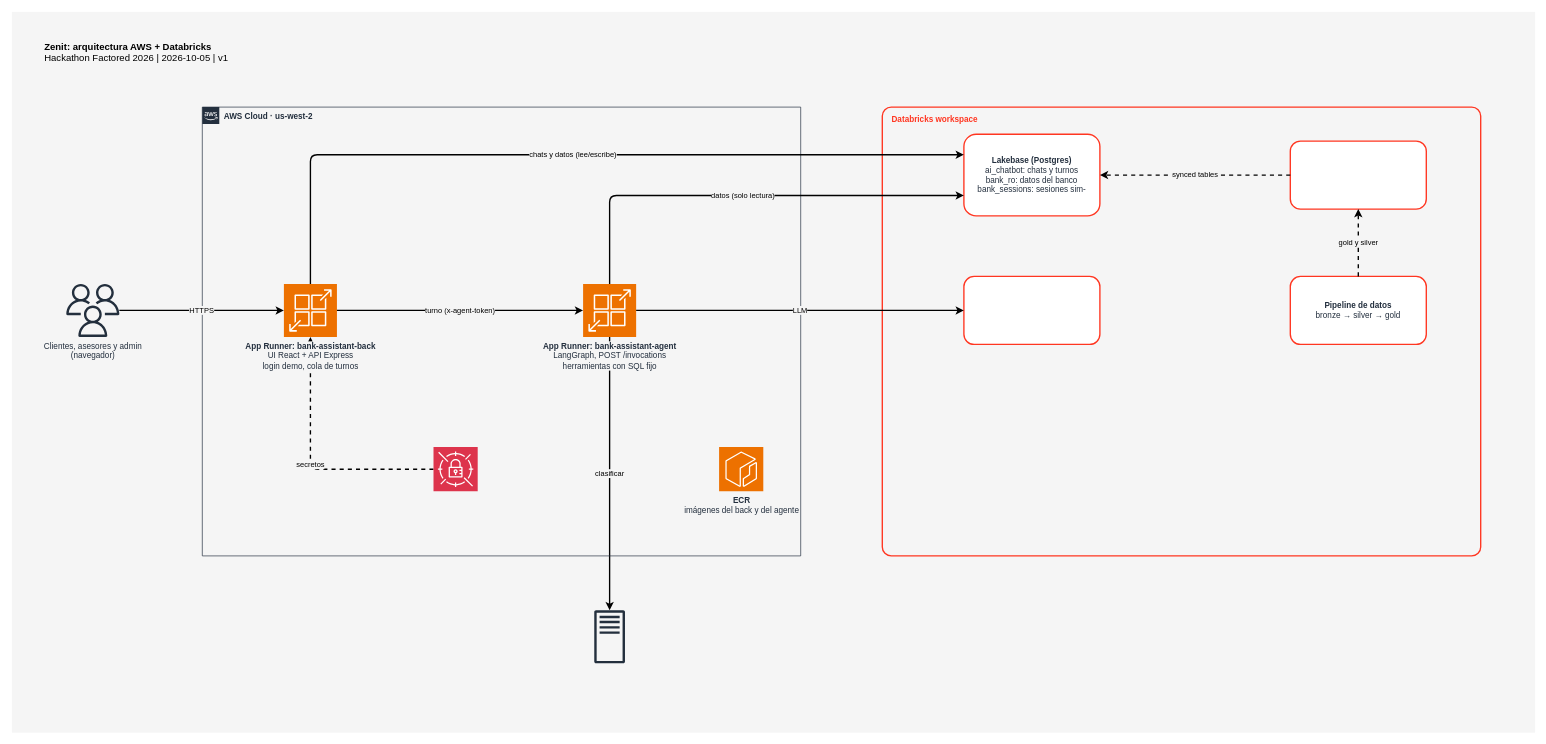
This 1546x744 diagram has some shape labels left out. The shapes that lost their labels are listed below. From the top down, each one's centre as x and y in pixels, then its label:
At (x=1358, y=174): "Unity Catalog bank_gold / bank_silver (Delta)".
At (x=1031, y=310): "Model Serving Qwen (LLM del agente)".
At (x=455, y=468): "Secrets Manager service principals Databricks, token del agente, logins demo".
At (x=609, y=636): "Jev (typesafe.ai) clasificador de intención".
